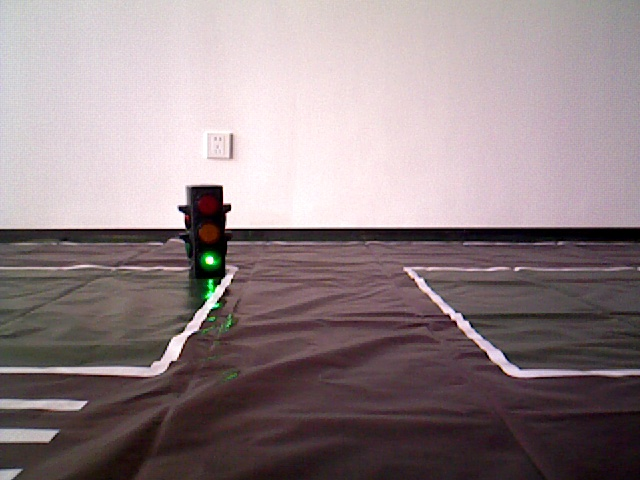green: (186, 188, 226, 275)
